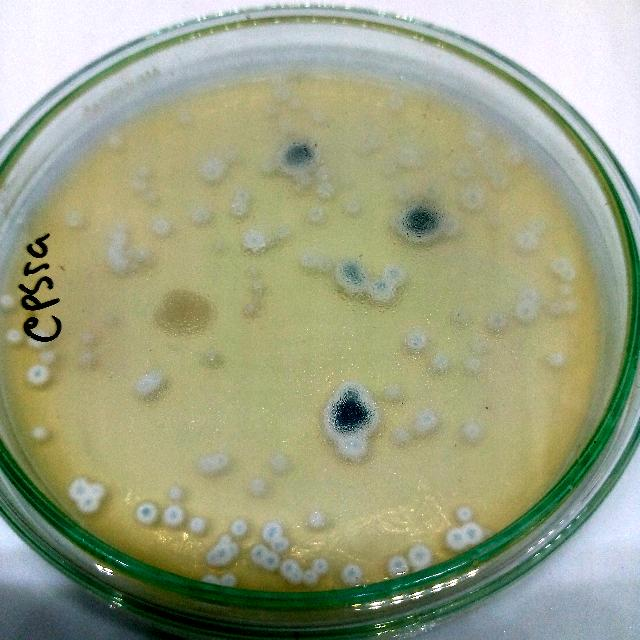colony: (151, 286, 219, 338), (322, 393, 380, 443), (400, 199, 440, 245), (279, 136, 321, 174), (334, 257, 368, 291), (332, 434, 368, 461), (194, 346, 226, 376), (374, 378, 406, 408), (368, 276, 397, 308), (196, 156, 228, 184), (401, 325, 431, 353), (410, 411, 442, 437), (238, 295, 266, 323), (406, 544, 436, 570), (388, 422, 418, 448), (240, 228, 266, 258), (337, 560, 363, 588), (158, 503, 186, 529), (425, 348, 453, 374), (381, 261, 407, 289), (458, 419, 484, 445), (188, 204, 214, 230), (384, 552, 408, 580), (460, 352, 488, 376), (485, 310, 509, 338), (334, 378, 366, 398), (134, 500, 158, 526), (246, 473, 270, 499), (74, 494, 100, 518), (513, 300, 539, 324), (436, 216, 462, 240), (106, 256, 132, 280), (104, 129, 128, 155), (444, 526, 468, 552), (259, 522, 283, 546), (29, 423, 53, 447), (304, 506, 326, 532), (518, 232, 544, 254), (210, 542, 236, 564), (461, 523, 484, 547), (66, 477, 88, 501), (26, 364, 50, 386), (248, 276, 270, 300), (76, 328, 100, 350), (248, 544, 272, 566), (460, 187, 482, 210), (172, 108, 195, 130), (306, 206, 328, 228), (297, 247, 319, 269), (260, 154, 282, 176), (132, 245, 154, 267), (149, 218, 173, 238), (452, 503, 473, 525), (227, 519, 250, 539), (310, 555, 330, 577), (268, 452, 290, 472), (25, 329, 47, 349), (546, 349, 568, 369), (464, 129, 486, 149), (314, 164, 336, 184), (271, 534, 291, 554), (199, 455, 219, 475), (133, 377, 153, 397), (316, 181, 336, 201), (64, 210, 84, 230), (280, 558, 300, 578), (86, 481, 108, 499), (188, 516, 206, 536), (6, 326, 24, 346), (342, 198, 362, 216), (313, 254, 331, 274), (133, 162, 153, 180), (260, 553, 280, 571), (197, 572, 219, 588), (76, 351, 95, 369), (218, 571, 236, 589), (168, 484, 186, 502), (38, 348, 56, 366), (558, 296, 576, 314), (203, 550, 221, 568), (223, 541, 241, 559), (286, 567, 304, 585), (146, 370, 164, 388), (0, 294, 16, 314), (130, 178, 150, 194), (303, 568, 319, 586), (553, 282, 571, 298), (230, 201, 248, 217), (212, 454, 228, 471), (520, 287, 538, 301), (548, 300, 562, 316), (218, 533, 232, 547), (562, 267, 576, 281), (236, 188, 250, 202), (554, 258, 568, 272)
